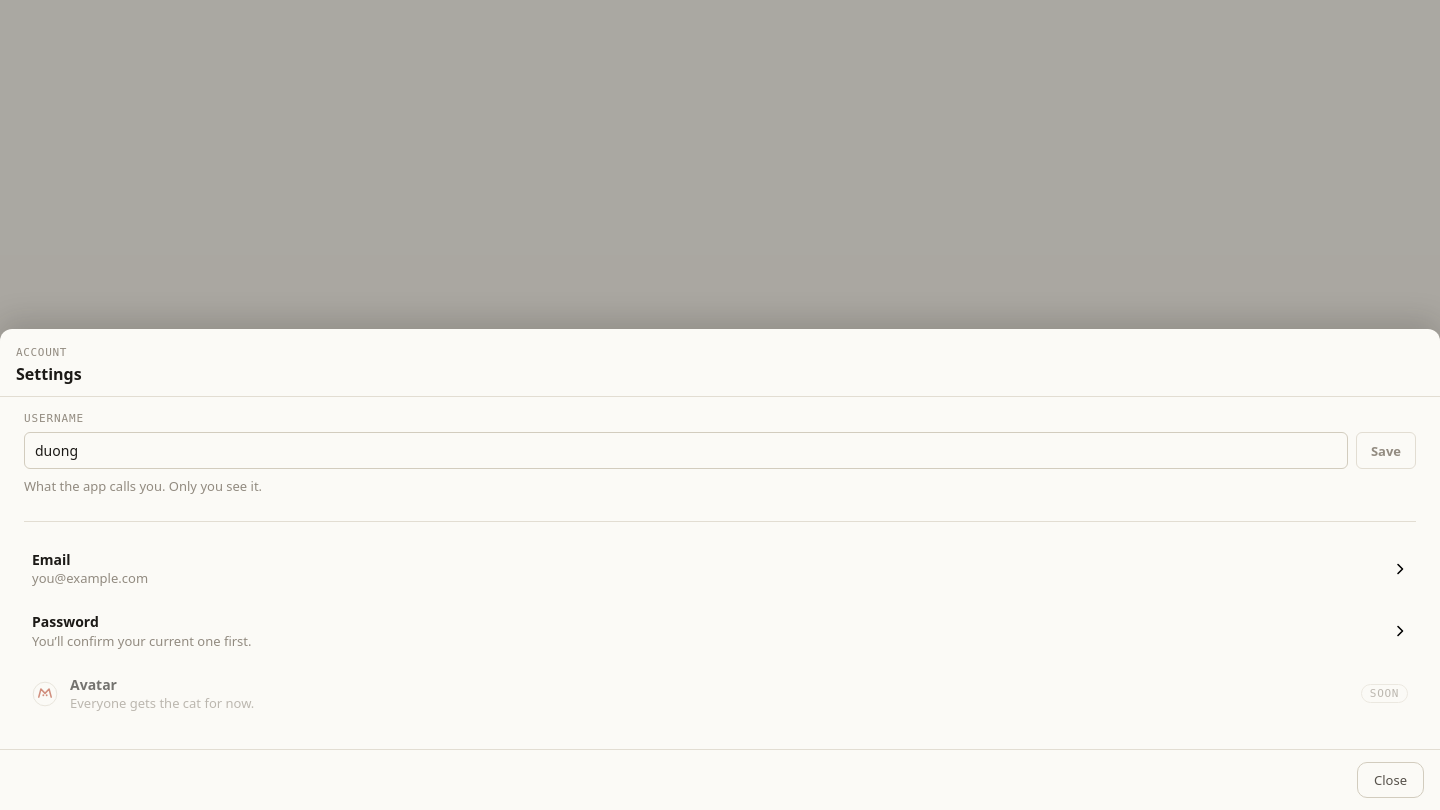
Scenario: AccountSettings › a failed save reports the reason rather than claiming success
This screenshot has width=1440, height=810.
Replace the text in the field labelled "Username" with "beaver" at coordinates (686, 451), box [24,432,1348,469]
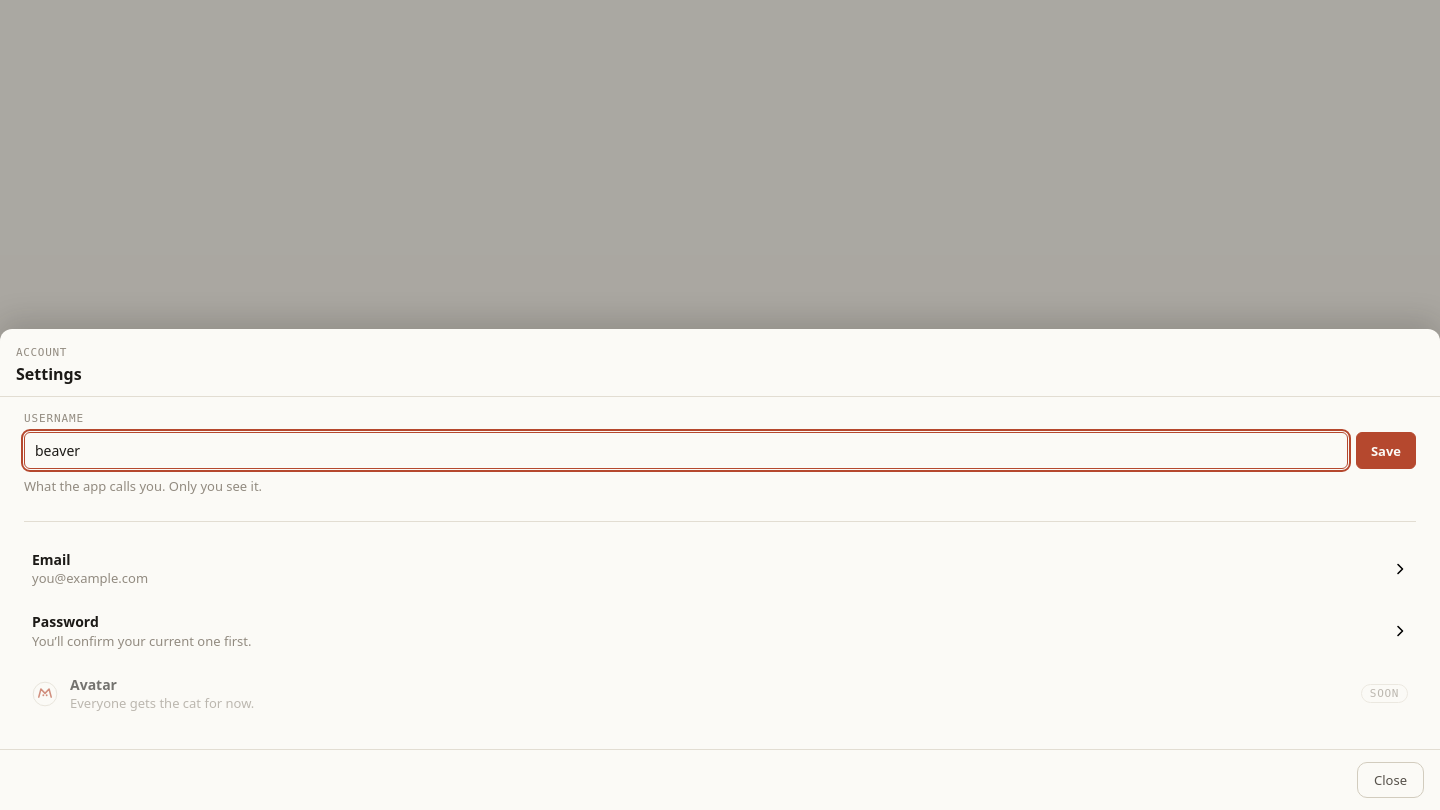
Click the button "Save" at coordinates (1386, 451), box [1356,432,1416,469]
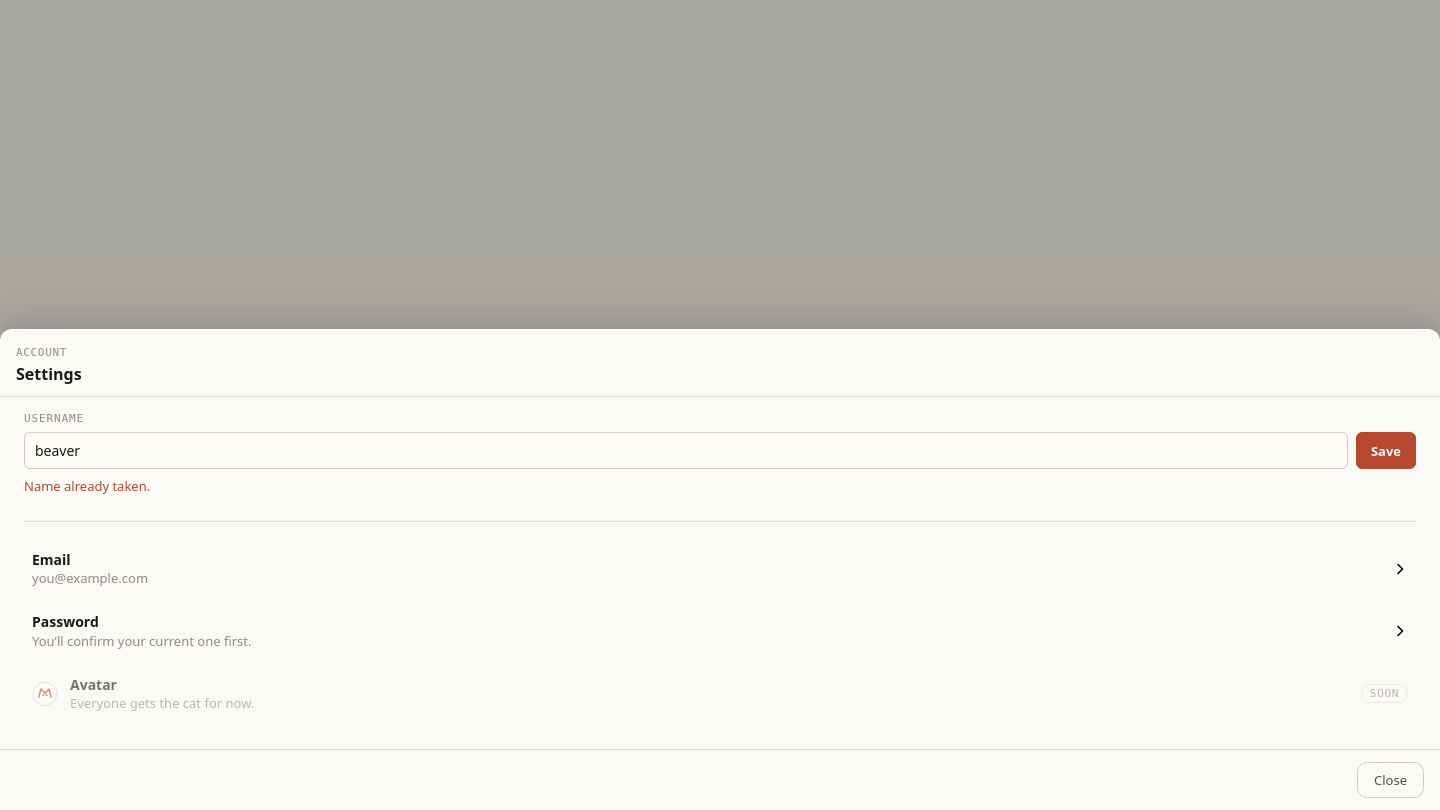
Now the message reads "Name already taken.", box [24,477,150,495]
